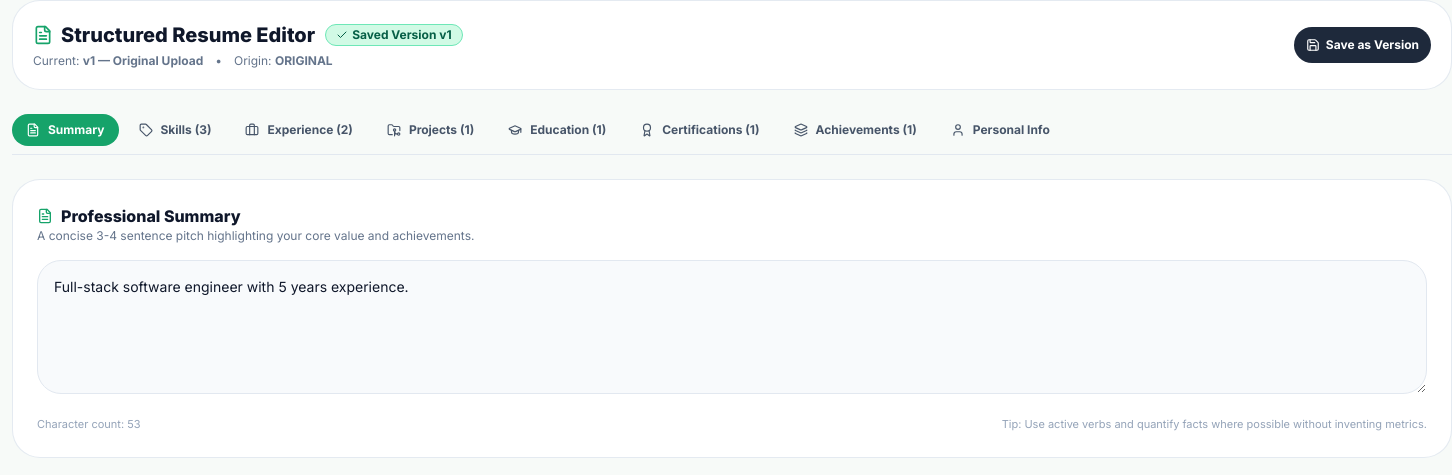
Test: ResumeEditor › discards unsaved changes when requested
Replace the text in the text box with placeholder "Write your professional summary..." with "Temporary edits" at (732, 327), box [37,260,1427,394]
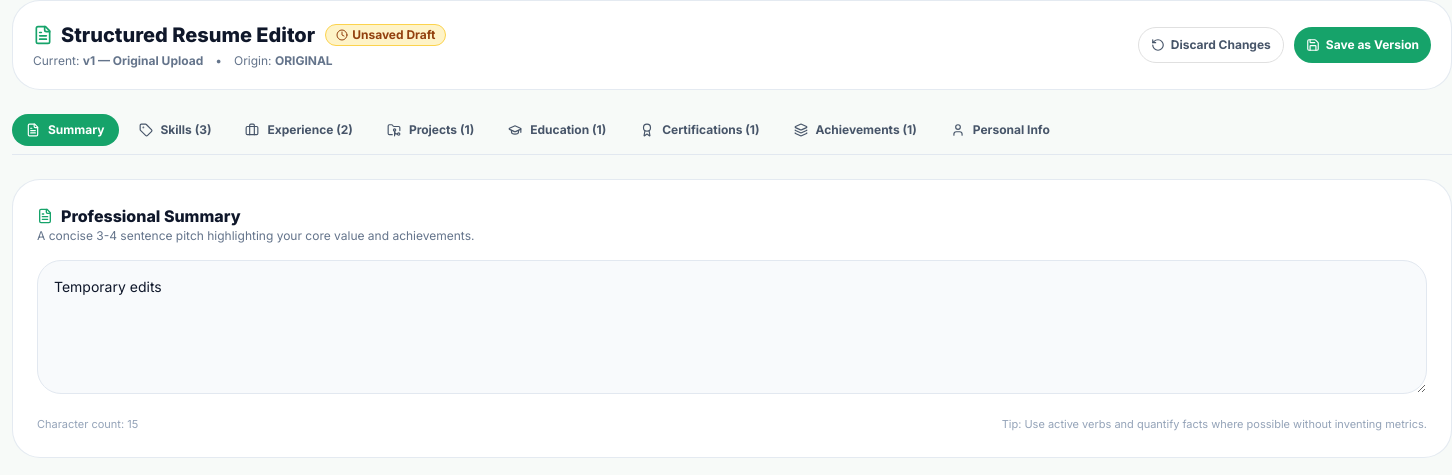
Now the text "Unsaved Draft" is shown, box [325,24,446,46]
Click the button "Discard Changes" at (1211, 45), box [1138,27,1284,63]
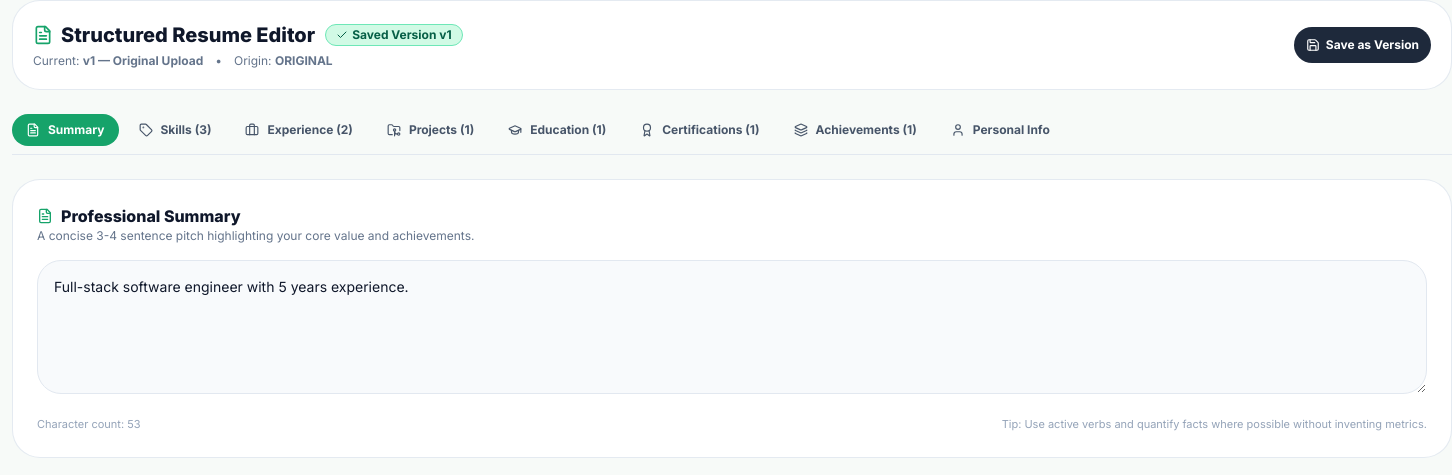
Now the text box with placeholder "Write your professional summary..." holds "Full-stack software engineer with 5 years experience.", box [37,260,1427,394]
Now the text "Saved Version v1" is shown, box [325,24,463,46]
